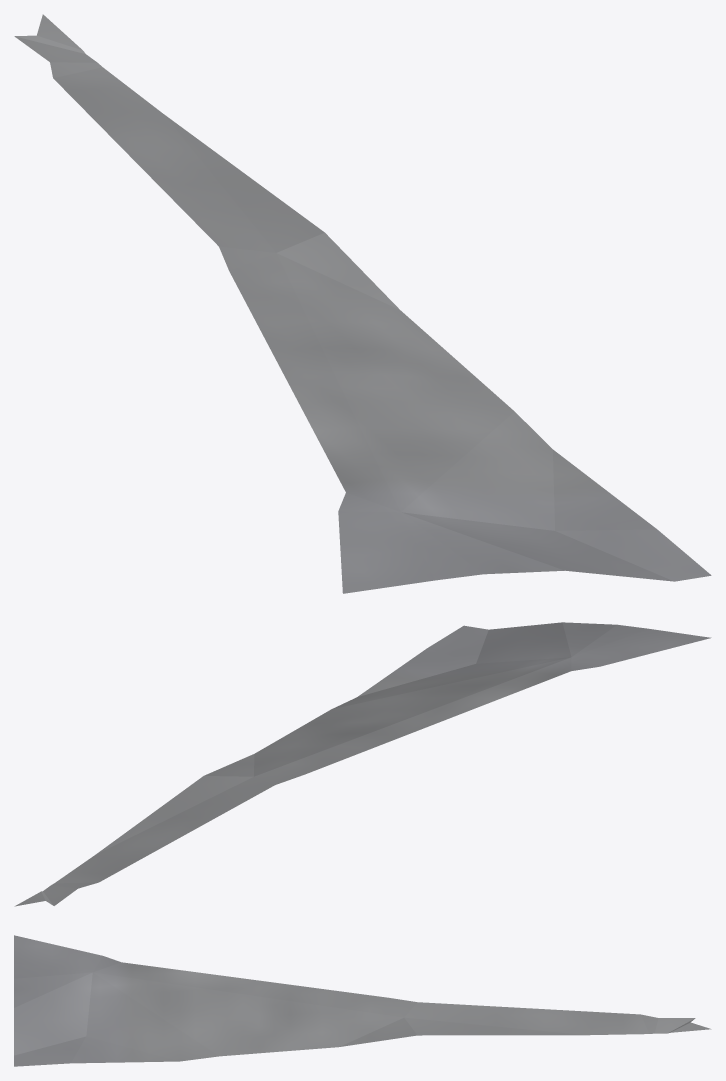
3 renders of one model, top to bottom at view 1: azimuth 30°, elevation 25°; view 2: azimuth 150°, elevation 25°; view 3: azimuth 270°, elevation 25°, orthographic. The views are drawn at different scales.
Size of the model in its own units: 0.1795 by 0.0334 by 0.5635.
Materials: 1 (1 with a texture image).
